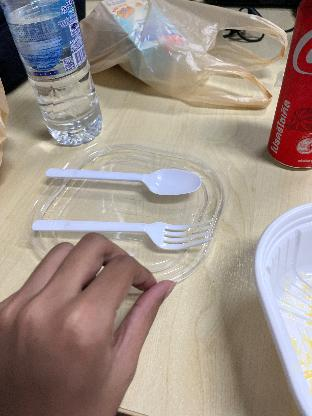Others: (31, 210, 219, 256), (36, 163, 208, 199)
